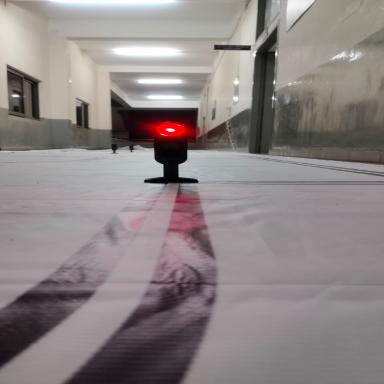traffic red: (130, 110, 226, 190)
